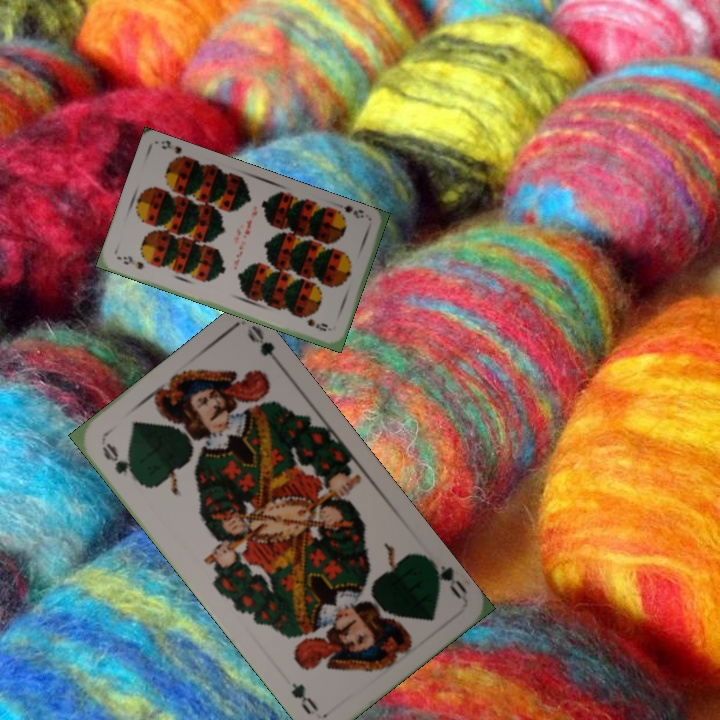GO: (422, 554, 471, 602), (97, 438, 143, 486)
S9: (114, 252, 148, 272), (331, 205, 366, 221)
